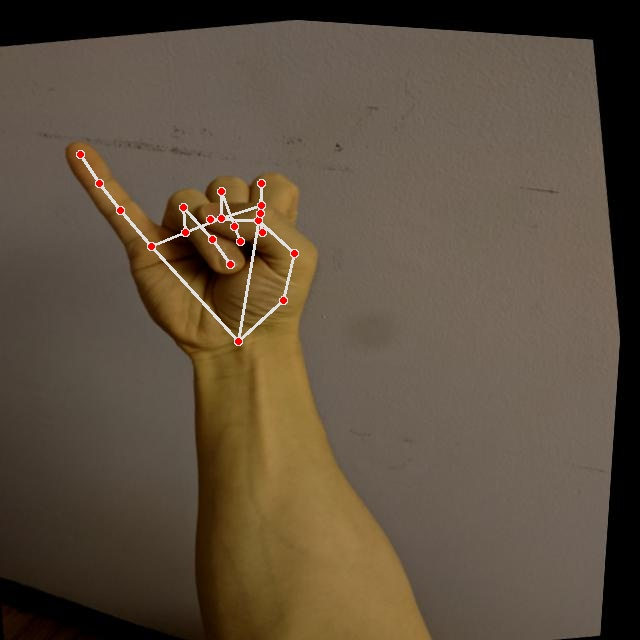I: (46, 98, 351, 384)
